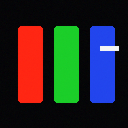3 line_h: (100, 46, 118, 50)
